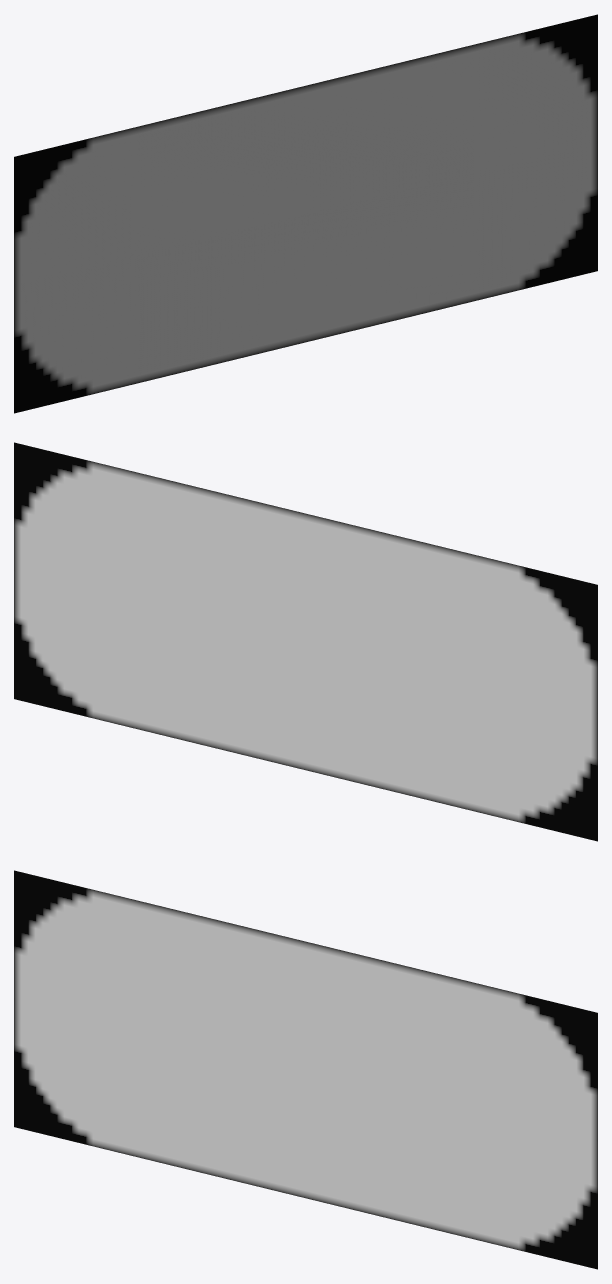
3 renders of one model, top to bottom at view 1: azimuth 30°, elevation 25°; view 2: azimuth 150°, elevation 25°; view 3: azimuth 330°, elevation 25°, orthographic.
Parts seen in each view (by area): view 1: Joint_0_Object_0; view 2: Joint_0_Object_0; view 3: Joint_0_Object_0.
Part boxes in pixels (box(x1,y1,x2,y2)): Joint_0_Object_0: box(14, 14, 597, 413); Joint_0_Object_0: box(14, 442, 597, 841); Joint_0_Object_0: box(14, 870, 597, 1269).
Size of the model in its own units: 36.43 by 15.3 by 0.
Materials: 1 (1 with a texture image).
